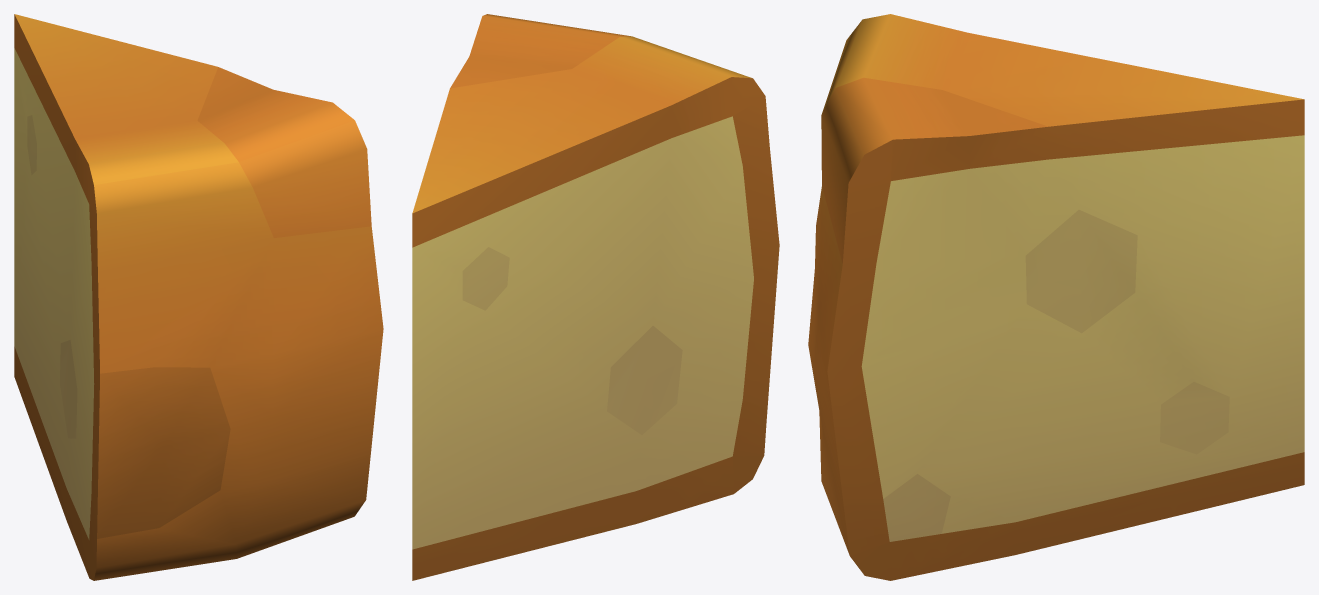
File: tavern_cheese_slice.fbx
3 views of the same model, side by side, from view 1: azimuth 30°, elevation 25°; view 2: azimuth 150°, elevation 25°; view 3: azimuth 270°, elevation 25° (orthographic). The views are drawn at different scales.
Visible parts, largest first — view 1: tavern_cheese_slice_LOD0; view 2: tavern_cheese_slice_LOD0; view 3: tavern_cheese_slice_LOD0.
Part boxes in pixels (<box>): tavern_cheese_slice_LOD0: <box>14,14,383,580</box>; tavern_cheese_slice_LOD0: <box>412,14,779,580</box>; tavern_cheese_slice_LOD0: <box>808,14,1304,580</box>.
Size of what is drawn, in the model's own units: 33.89 by 47.55 by 48.46.
